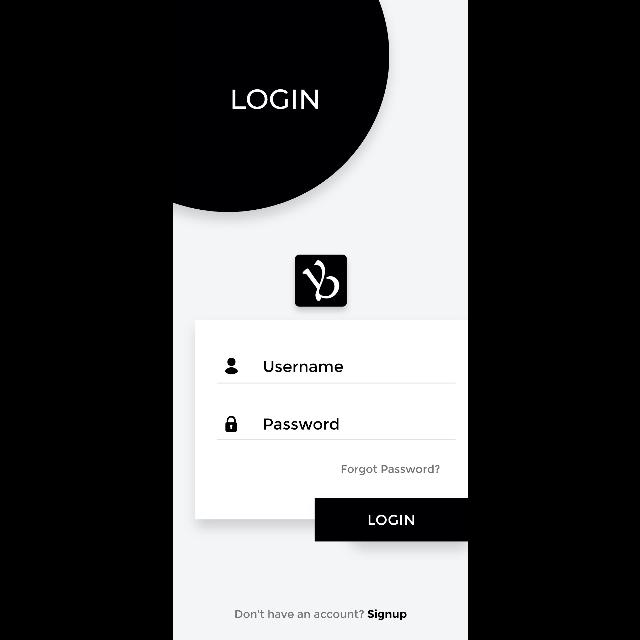icon: (225, 358, 238, 374), (225, 416, 237, 432)
image: (294, 255, 346, 307)
input: (217, 358, 456, 384), (217, 416, 456, 440)
text: (232, 89, 318, 109), (234, 610, 406, 620), (341, 464, 439, 476)
textbutton: (314, 498, 468, 542)
